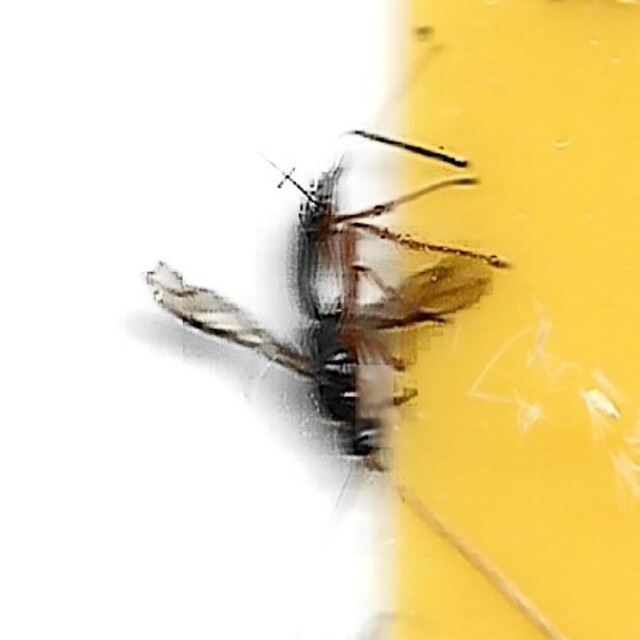Brachycera: (142, 158, 498, 482)
